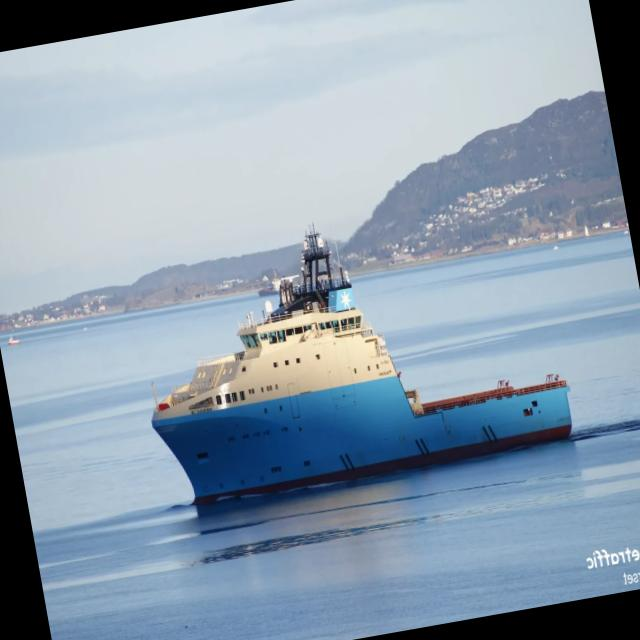Offshore: (151, 227, 571, 506)
